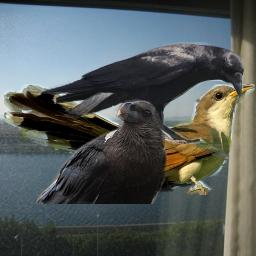Crow: (38, 42, 244, 144), (33, 98, 169, 204)
Cuckoo: (4, 84, 255, 195)
